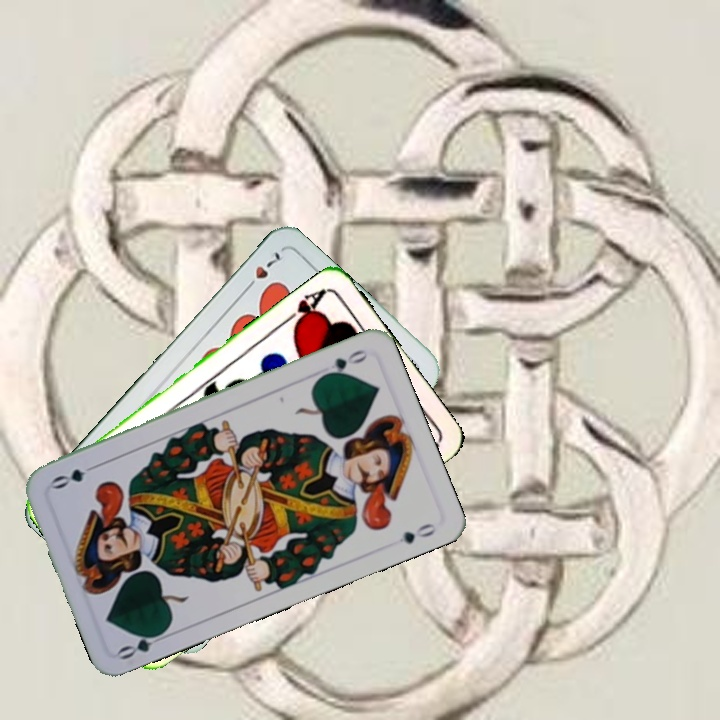GO: (114, 625, 172, 663), (314, 345, 371, 380)
H7: (239, 247, 285, 295)
HA: (278, 284, 329, 333)
